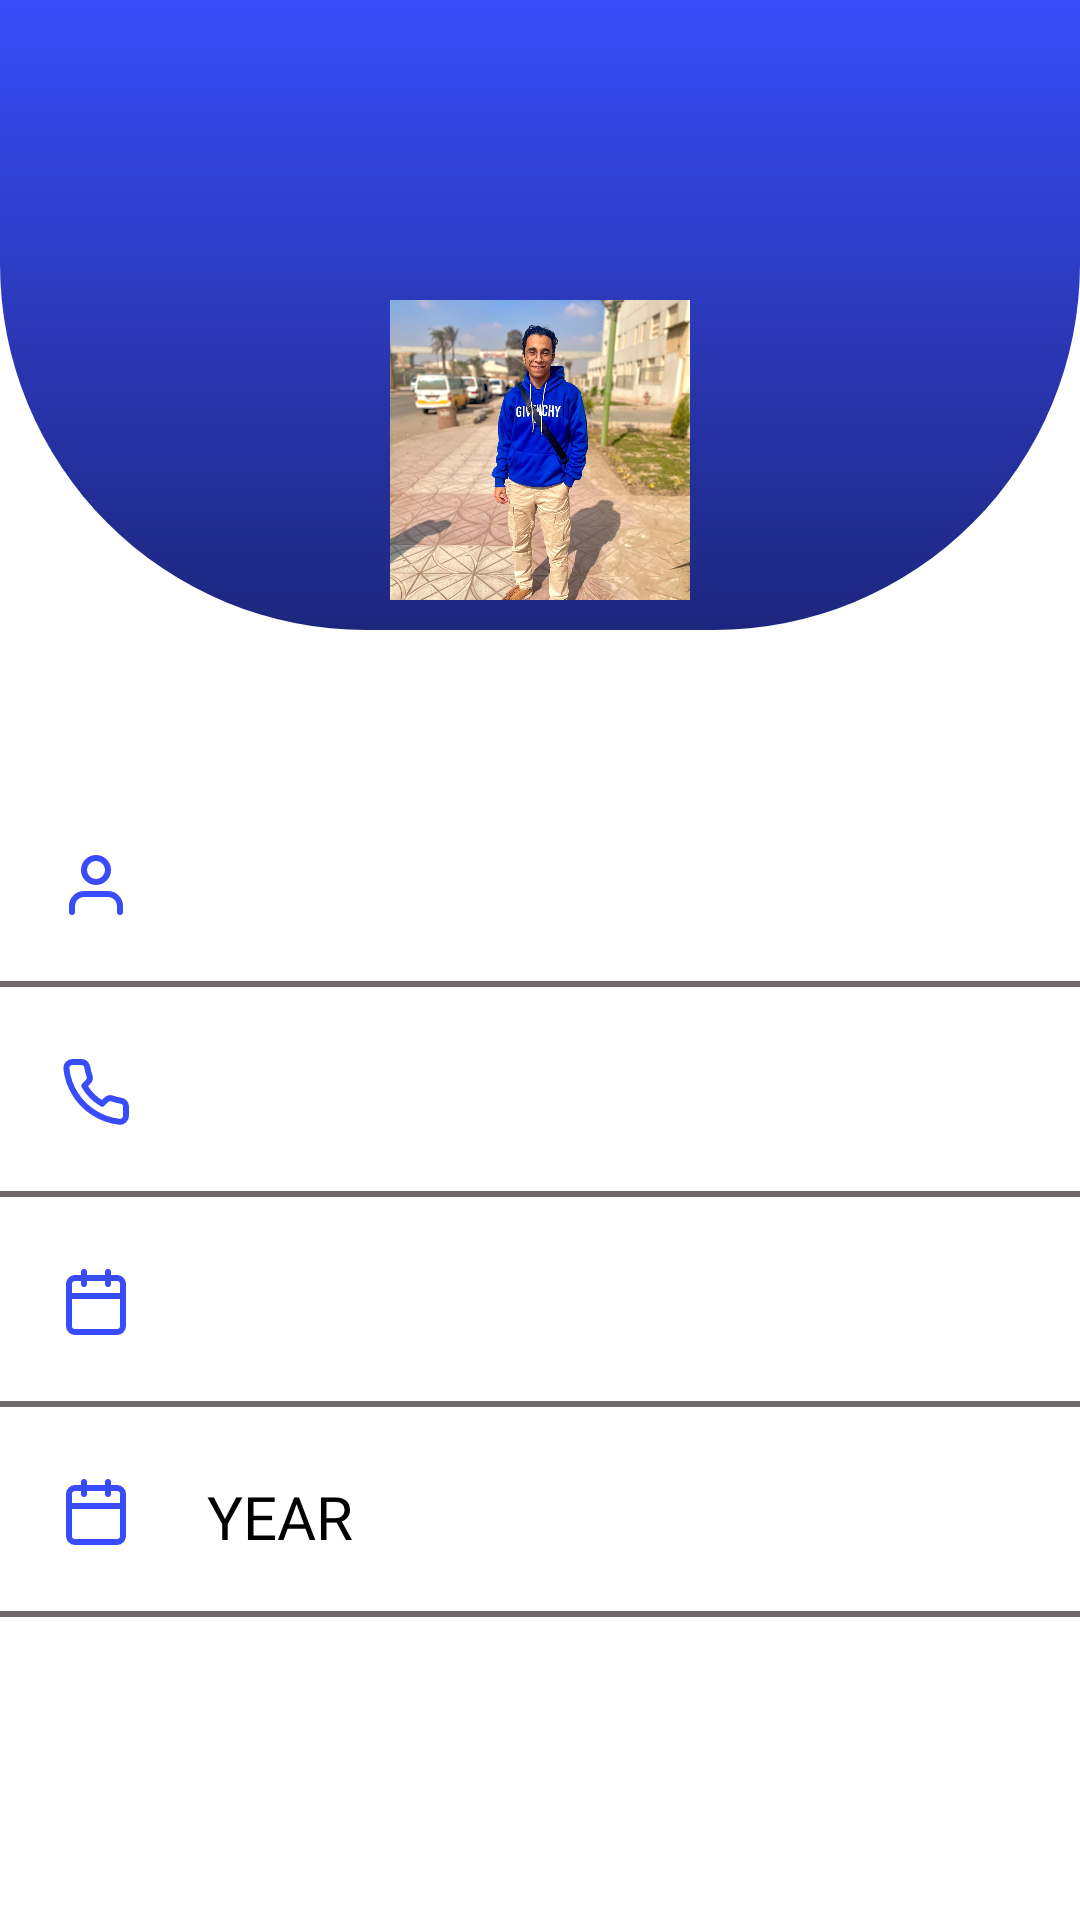

Icons on this 1080*1920 Android screen, each with its box as BBox(x1, y1, x2, y2):
calendar: BBox(66, 1269, 126, 1335), BBox(66, 1479, 126, 1545)
phone: BBox(63, 1059, 129, 1125)
user: BBox(69, 855, 123, 915)
